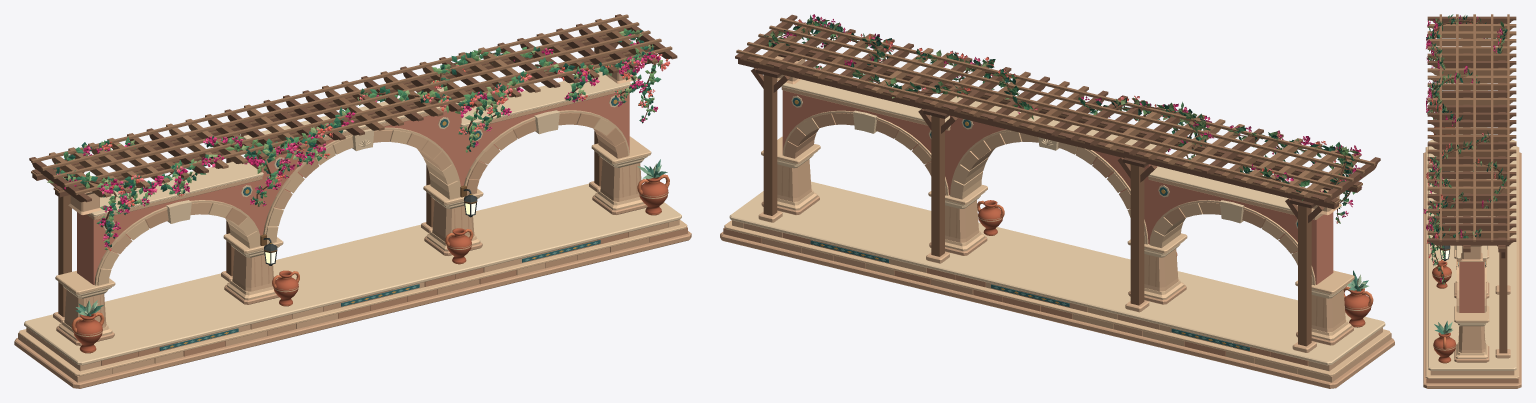
Rendered from coral_cove_arch.glb.
3 views of the same model, side by side, from view 1: azimuth 30°, elevation 25°; view 2: azimuth 150°, elevation 25°; view 3: azimuth 270°, elevation 25° (orthographic). The views are drawn at different scales.
Visible parts, largest first — view 1: CutStone, Timber, Leaves, Limewash, Bracts, FiredClay, GlazedTile, Metalwork; view 2: CutStone, Timber, Limewash, Leaves, Bracts, FiredClay, GlazedTile; view 3: Timber, CutStone, Leaves, Limewash, Bracts, FiredClay, Metalwork.
Boxes of the visible parts, left/top/right/bottom form: CutStone: left=14, top=63, right=691, bottom=388; Timber: left=29, top=14, right=677, bottom=317; Leaves: left=47, top=28, right=667, bottom=316; Limewash: left=77, top=91, right=629, bottom=284; Bracts: left=56, top=33, right=670, bottom=251; FiredClay: left=71, top=174, right=669, bottom=353; GlazedTile: left=106, top=97, right=618, bottom=350; Metalwork: left=260, top=185, right=477, bottom=265; CutStone: left=720, top=56, right=1394, bottom=388; Timber: left=735, top=14, right=1380, bottom=346; Limewash: left=782, top=90, right=1333, bottom=284; Leaves: left=764, top=15, right=1368, bottom=291; Bracts: left=775, top=14, right=1361, bottom=223; FiredClay: left=977, top=200, right=1373, bottom=327; GlazedTile: left=792, top=97, right=1297, bottom=350; Timber: left=1427, top=14, right=1516, bottom=353; CutStone: left=1423, top=38, right=1521, bottom=388; Leaves: left=1426, top=14, right=1507, bottom=334; Limewash: left=1459, top=262, right=1484, bottom=312; Bracts: left=1423, top=15, right=1502, bottom=282; FiredClay: left=1432, top=126, right=1456, bottom=363; Metalwork: left=1440, top=171, right=1455, bottom=260.
Bounding box in the file's own units: 18 × 5.4 × 3.2.
